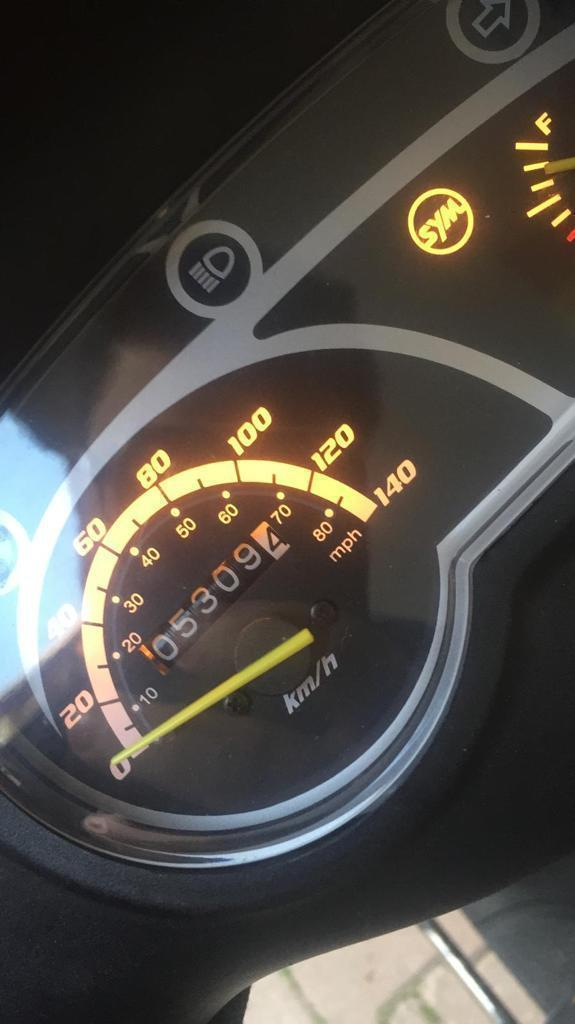0: (145, 634, 179, 661), (211, 563, 240, 592), (183, 517, 197, 531), (145, 546, 160, 559)
3: (184, 585, 223, 614)
4: (260, 523, 291, 555), (138, 554, 153, 569)
5: (168, 607, 199, 638), (175, 523, 188, 538)
9: (230, 541, 261, 571)
odometer: (137, 517, 295, 679)
